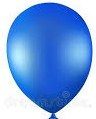Balloon: (6, 2, 93, 112)
